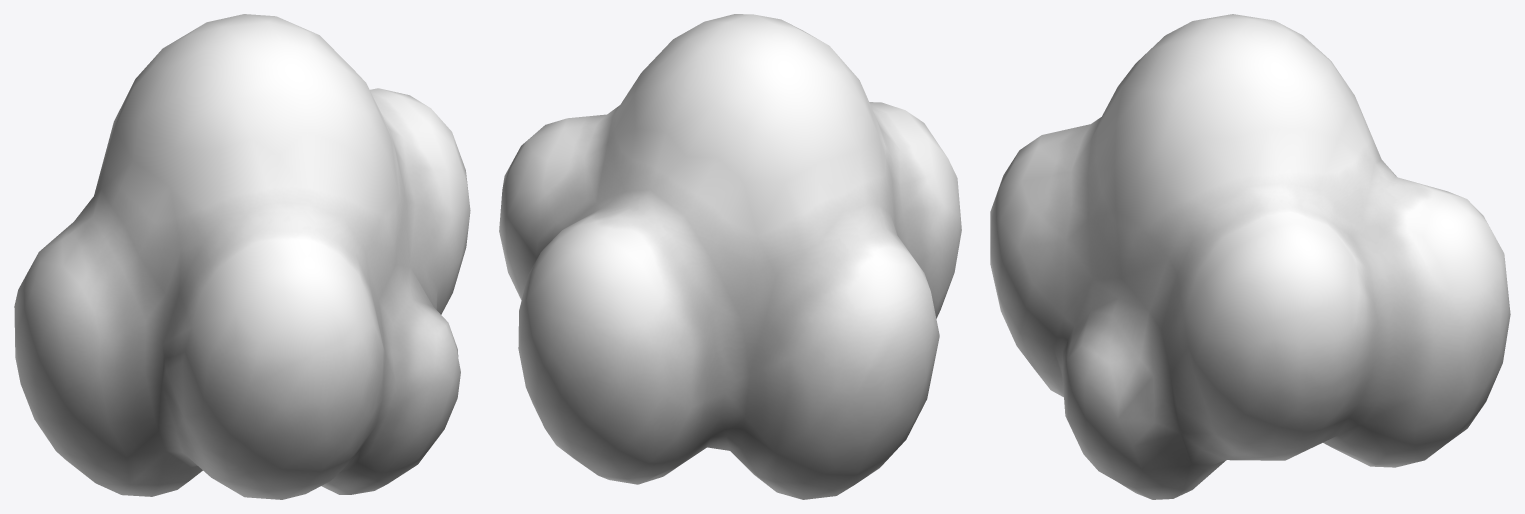
Rendered from birchBall2_lod.fbx.
The picture shows the model from 3 angles, left to right: view 1: azimuth 30°, elevation 25°; view 2: azimuth 150°, elevation 25°; view 3: azimuth 270°, elevation 25°; orthographic projection. The views are drawn at different scales.
Parts seen in each view (by area): view 1: birchBall2_LOD0; view 2: birchBall2_LOD0; view 3: birchBall2_LOD0.
Boxes of the visible parts, x1,y1,x2,y2 form: birchBall2_LOD0: [14, 14, 470, 499]; birchBall2_LOD0: [499, 14, 961, 499]; birchBall2_LOD0: [990, 14, 1510, 499].
Size of what is drawn, in the model's own units: 175 by 177 by 189.
Materials: 1 (1 with a texture image).
